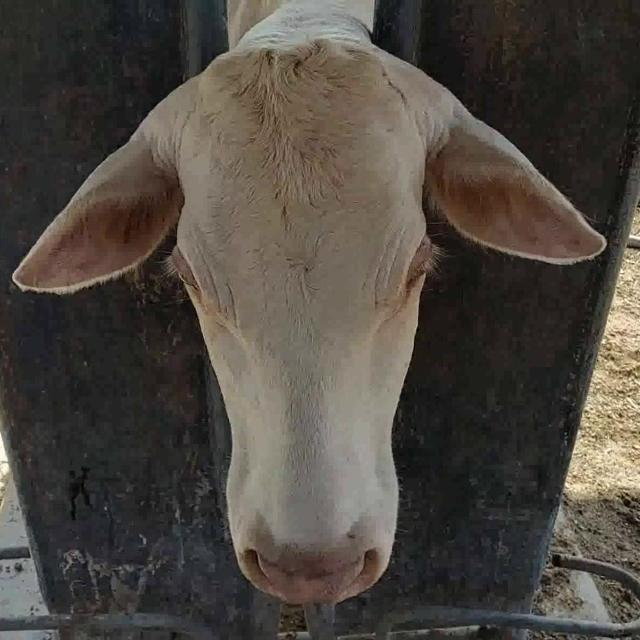cowFace: (172, 42, 432, 602)
